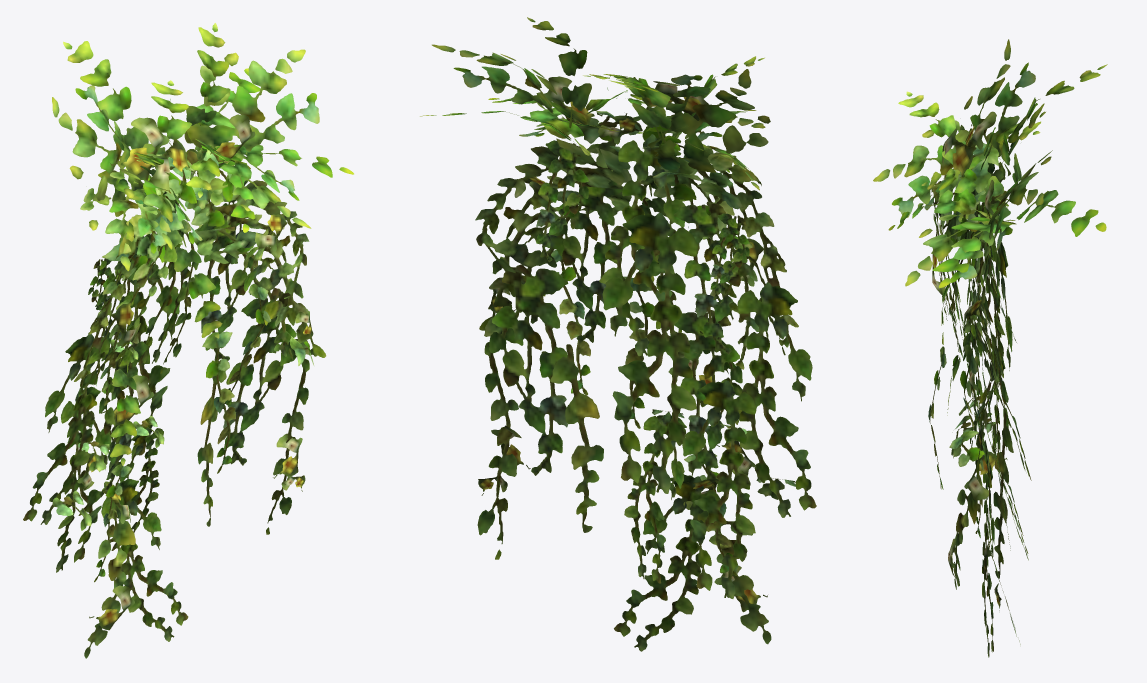
Rendered from S_Tree_Green037.FBX.
The picture shows the model from 3 angles, left to right: view 1: azimuth 30°, elevation 25°; view 2: azimuth 150°, elevation 25°; view 3: azimuth 270°, elevation 25°; orthographic projection. The views are drawn at different scales.
Visible parts, largest first — view 1: S_Tree_Green037; view 2: S_Tree_Green037; view 3: S_Tree_Green037.
Boxes of the visible parts, x1=… form: S_Tree_Green037: x1=23, y1=23, x2=353, y2=658; S_Tree_Green037: x1=420, y1=17, x2=816, y2=651; S_Tree_Green037: x1=873, y1=39, x2=1107, y2=657.
Bounding box in the file's own units: 192 × 312 × 129.
